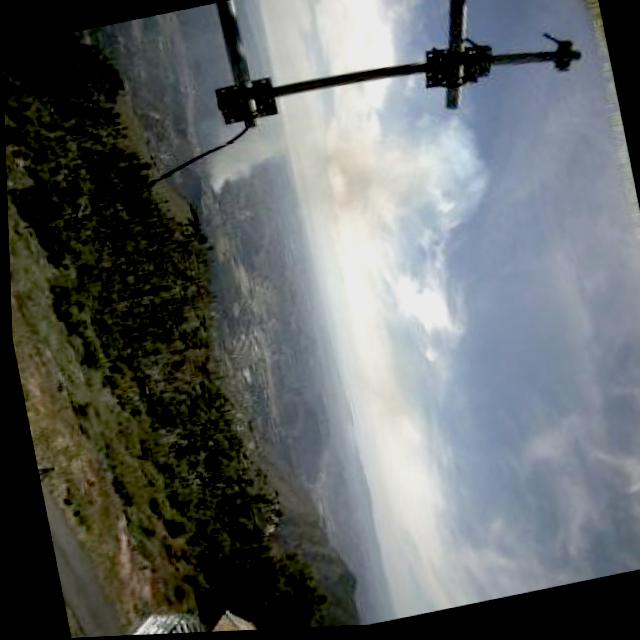Smoke: (198, 95, 435, 252)
